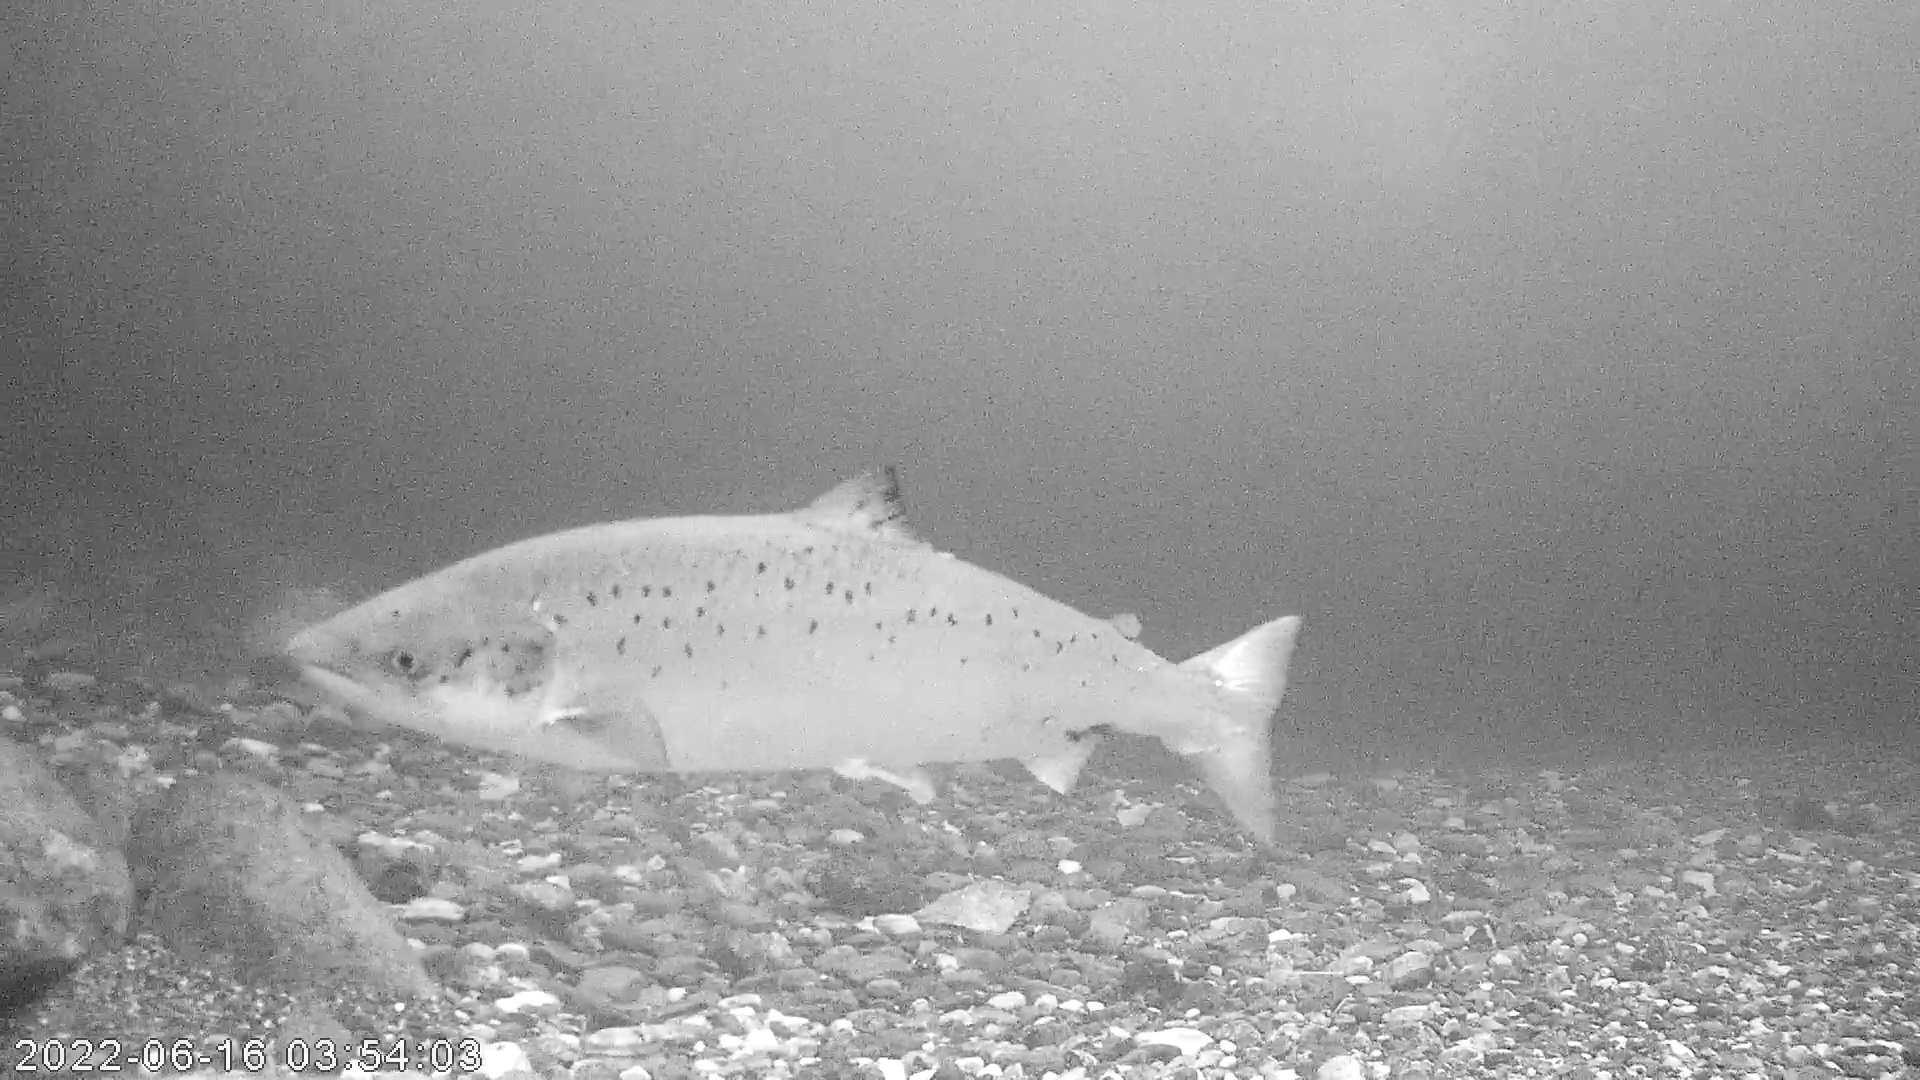salmon: (282, 463, 1307, 849)
